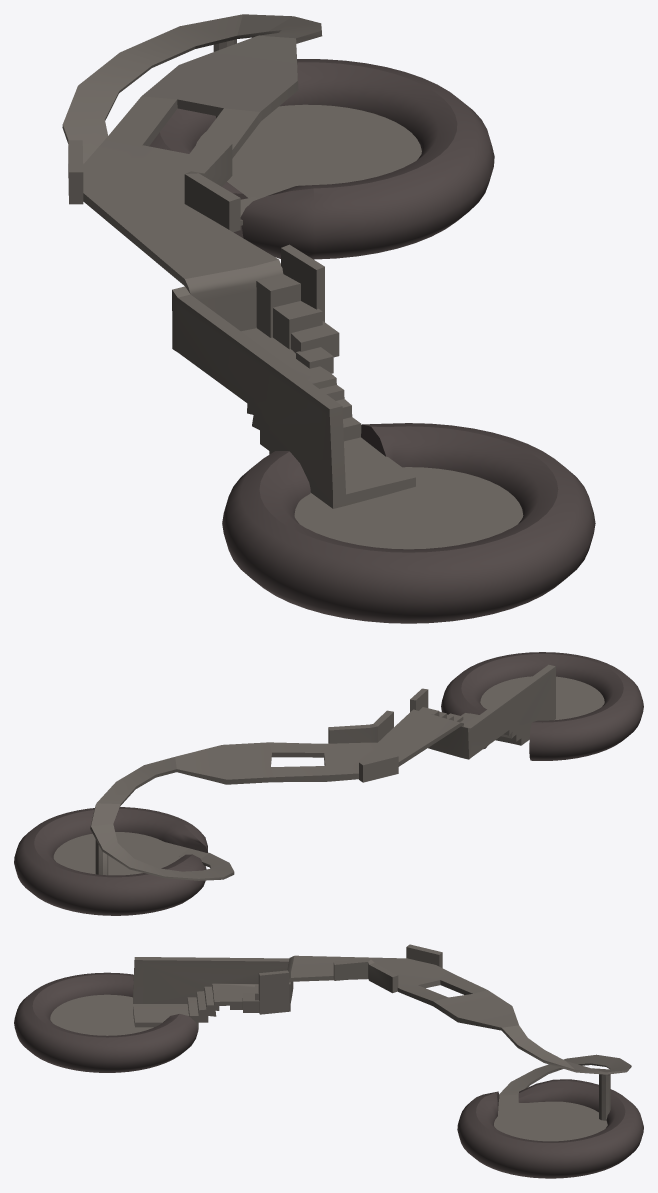
File: level.glb
3 renders of one model, top to bottom at view 1: azimuth 30°, elevation 25°; view 2: azimuth 150°, elevation 25°; view 3: azimuth 270°, elevation 25°, orthographic. The views are drawn at different scales.
Parts seen in each view (by area): view 1: Level; view 2: Level; view 3: Level.
Part boxes in pixels (x1,y1,x2,y2): Level: (62, 14, 595, 623); Level: (14, 652, 643, 915); Level: (14, 944, 643, 1178).
Size of the model in its own units: 118 by 38.99 by 193.
1 material, 1 textured.
